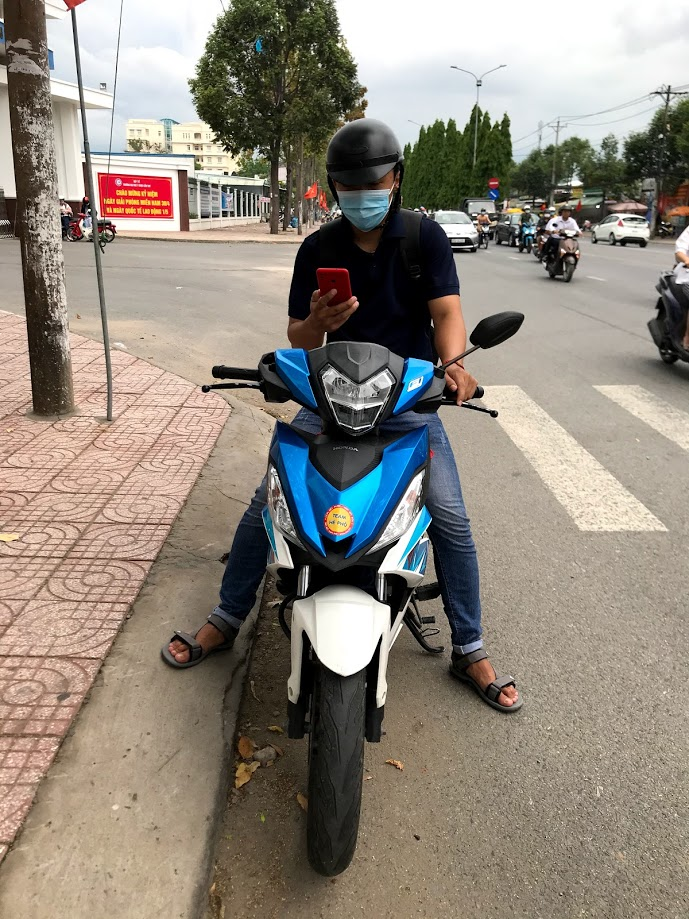dieu khien xe may: (262, 118, 464, 573)
su dung dien thoai: (308, 121, 406, 333)
